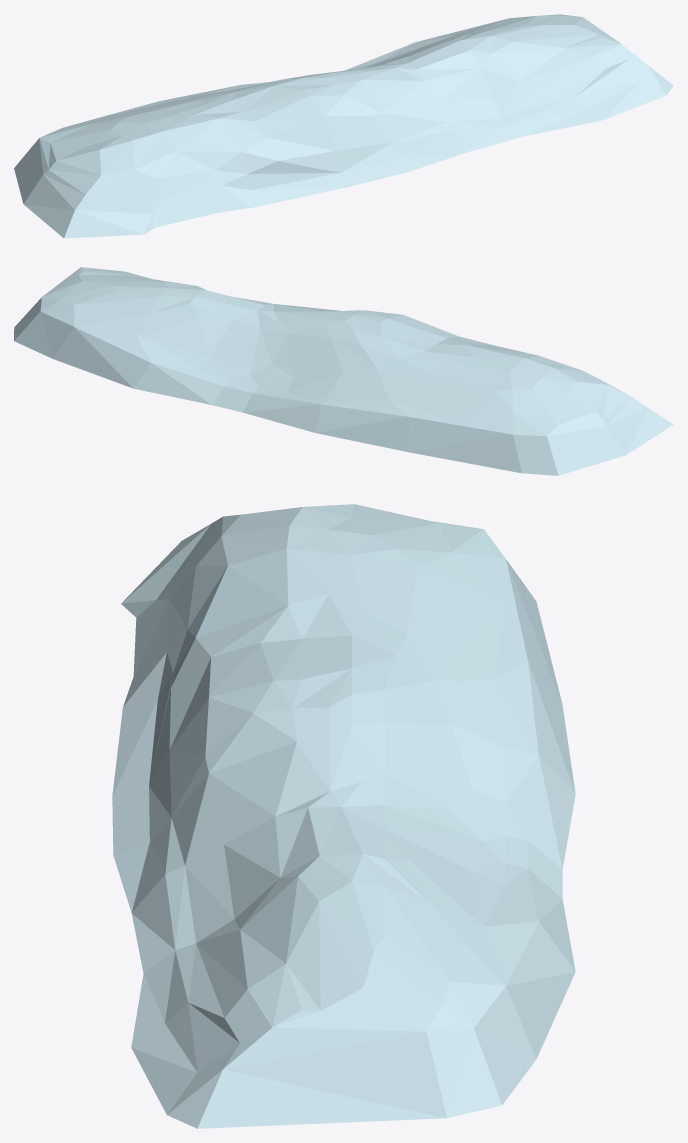
File: SM_Env_Dirt_Mound_04_Snow.fbx
The picture shows the model from 3 angles, top to bottom: view 1: azimuth 30°, elevation 25°; view 2: azimuth 150°, elevation 25°; view 3: azimuth 270°, elevation 25°; orthographic projection. The views are drawn at different scales.
Parts seen in each view (by area): view 1: SM_Env_Dirt_Mound_04_Snow; view 2: SM_Env_Dirt_Mound_04_Snow; view 3: SM_Env_Dirt_Mound_04_Snow.
Part boxes in pixels (left/top/right/bottom): SM_Env_Dirt_Mound_04_Snow: left=14, top=14, right=673, bottom=238; SM_Env_Dirt_Mound_04_Snow: left=14, top=267, right=673, bottom=475; SM_Env_Dirt_Mound_04_Snow: left=112, top=504, right=575, bottom=1128.
Size of the model in its own units: 1425 by 136 by 474.
